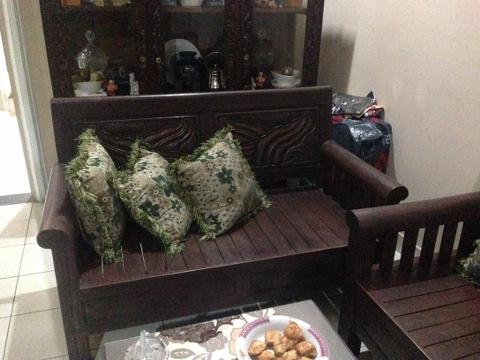kursi: (37, 86, 409, 360)
